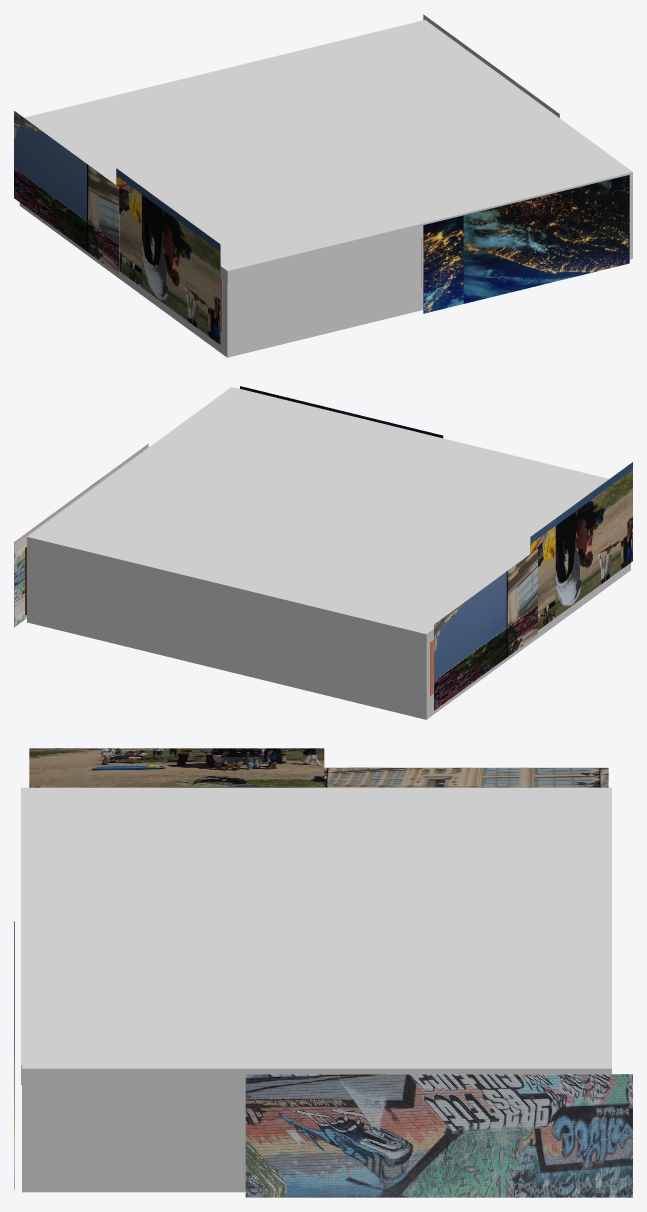
File: museo2.glb
The picture shows the model from 3 angles, top to bottom: view 1: azimuth 30°, elevation 25°; view 2: azimuth 150°, elevation 25°; view 3: azimuth 270°, elevation 25°; orthographic projection. The views are drawn at different scales.
Visible parts, largest first — view 1: Plane, Cube.005, Cube.006, Cube.007, Cube.002; view 2: Plane, Cube.006, Cube.007, Cube.002, Cube.005; view 3: Plane, Cube.002, Cube.006, Cube.007.
Part boxes in pixels (box(x1,y1,x2,y2)): Plane: box(19, 20, 632, 357); Cube.005: box(423, 175, 629, 313); Cube.006: box(116, 168, 220, 344); Cube.007: box(14, 110, 119, 274); Cube.002: box(423, 14, 559, 117); Plane: box(27, 387, 630, 719); Cube.006: box(530, 462, 632, 630); Cube.007: box(434, 548, 537, 710); Cube.002: box(14, 443, 148, 627); Cube.005: box(240, 386, 443, 438); Plane: box(21, 787, 611, 1192); Cube.002: box(245, 1074, 632, 1197); Cube.006: box(29, 748, 324, 787); Cube.007: box(324, 767, 608, 787).
Bounding box in the file's own units: 742 × 193 × 670.
Materials: 10 (4 with a texture image).
